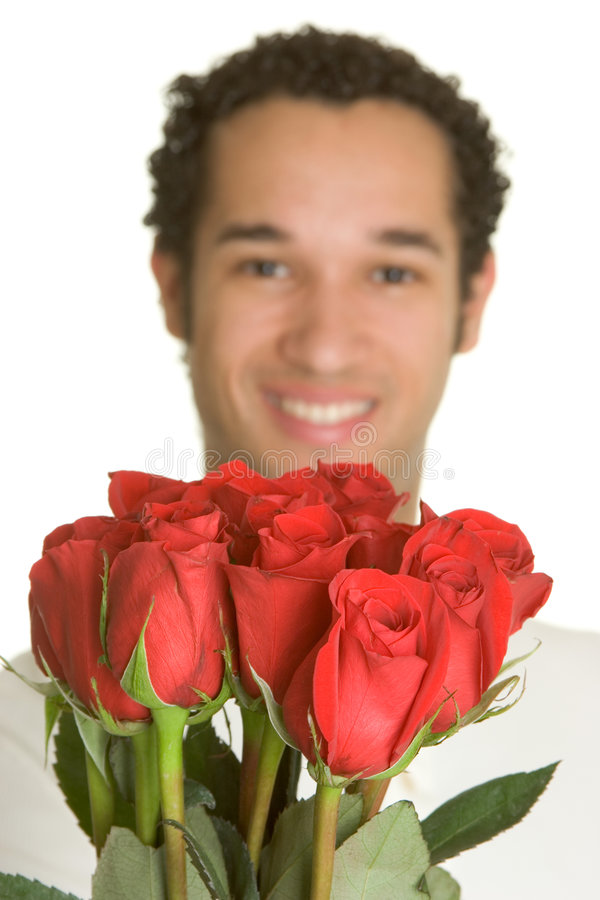RedRose: (306, 564, 441, 782), (108, 511, 232, 734)
